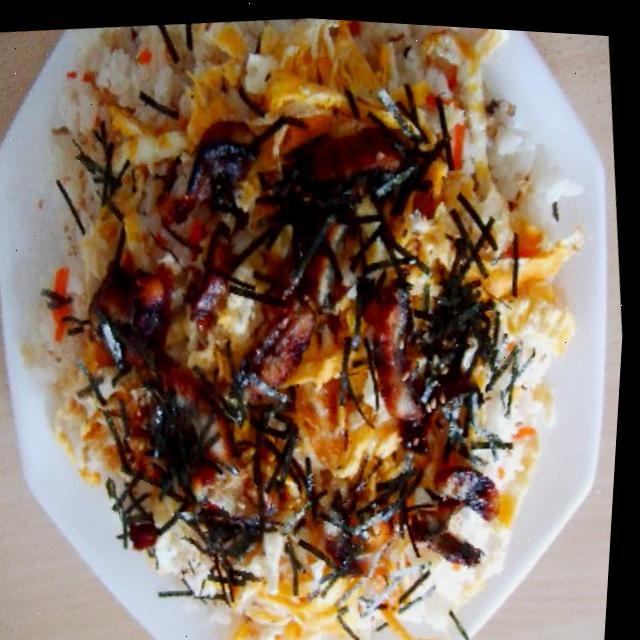寿司卷物: (43, 3, 640, 640)
